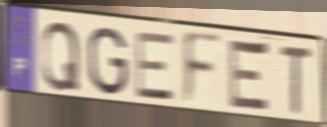E: (228, 35, 272, 117), (133, 31, 176, 104)
F: (181, 29, 224, 110)
G: (86, 25, 130, 98)
Q: (40, 20, 82, 93)
T: (278, 43, 315, 118)
